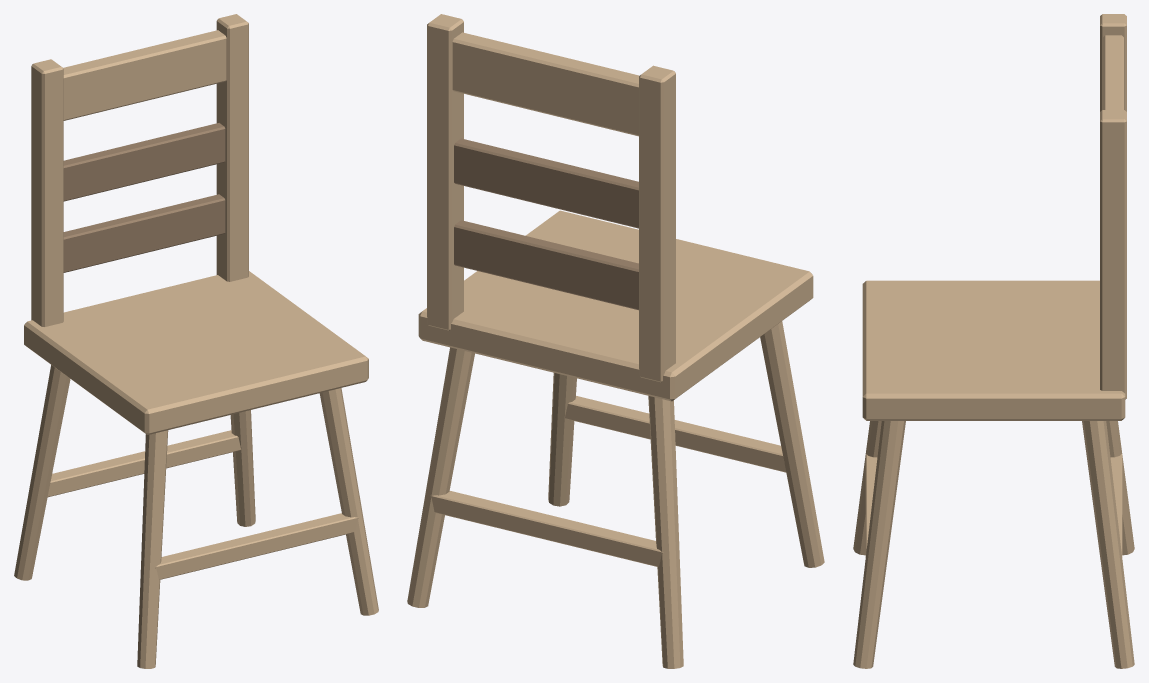
File: chair.glb
The picture shows the model from 3 angles, left to right: view 1: azimuth 30°, elevation 25°; view 2: azimuth 150°, elevation 25°; view 3: azimuth 270°, elevation 25°; orthographic projection. The views are drawn at different scales.
Visible parts, largest first — view 1: dining-chair-timber; view 2: dining-chair-timber; view 3: dining-chair-timber.
Boxes of the visible parts, x1,y1,x2,y2 form: dining-chair-timber: [14, 14, 378, 668]; dining-chair-timber: [407, 14, 824, 668]; dining-chair-timber: [853, 14, 1134, 668].
Bounding box in the file's own units: 0.4897 × 1 × 0.4713.
